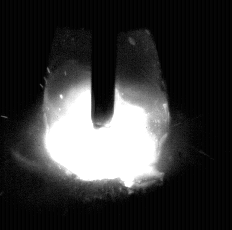arame: (92, 0, 115, 129)
poca: (44, 0, 170, 230)
